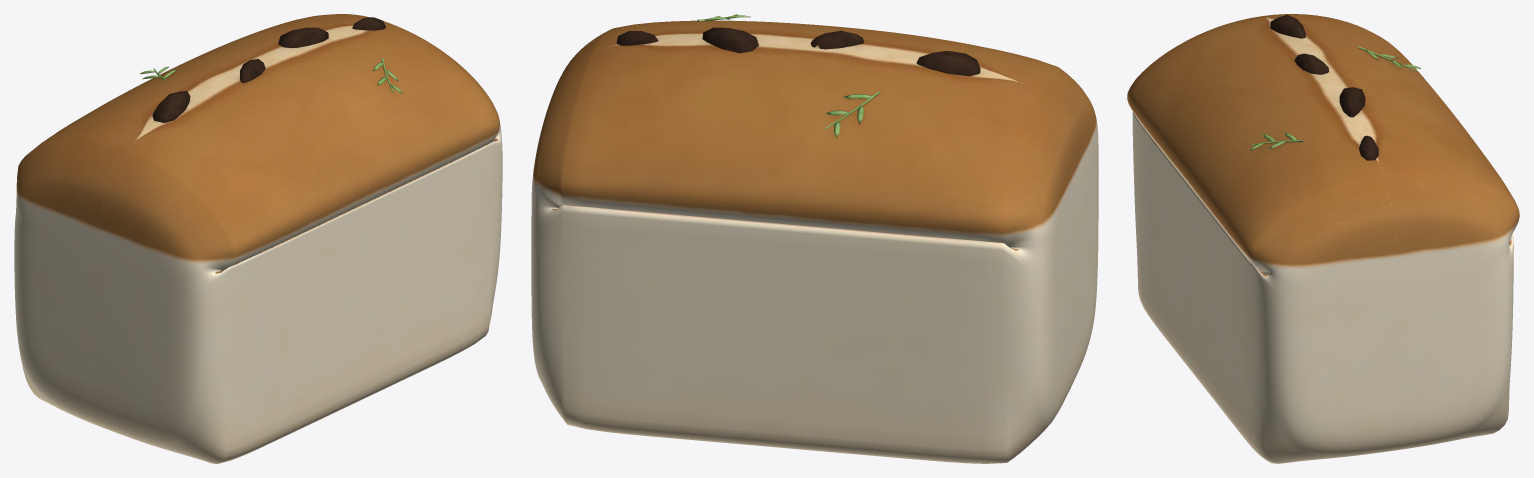
The model's file is loaf--blackgarlic-crumble.glb.
The picture shows the model from 3 angles, left to right: view 1: azimuth 30°, elevation 25°; view 2: azimuth 150°, elevation 25°; view 3: azimuth 270°, elevation 25°; orthographic projection. The views are drawn at different scales.
Visible parts, largest first — view 1: loaf_blackgarlic-crumble; view 2: loaf_blackgarlic-crumble; view 3: loaf_blackgarlic-crumble.
Boxes of the visible parts, x1,y1,x2,y2 form: loaf_blackgarlic-crumble: (14, 14, 502, 463); loaf_blackgarlic-crumble: (531, 14, 1098, 463); loaf_blackgarlic-crumble: (1127, 14, 1519, 463).
Bounding box in the file's own units: 1.09 × 0.7436 × 0.8491.
Materials: 1 (1 with a texture image).
